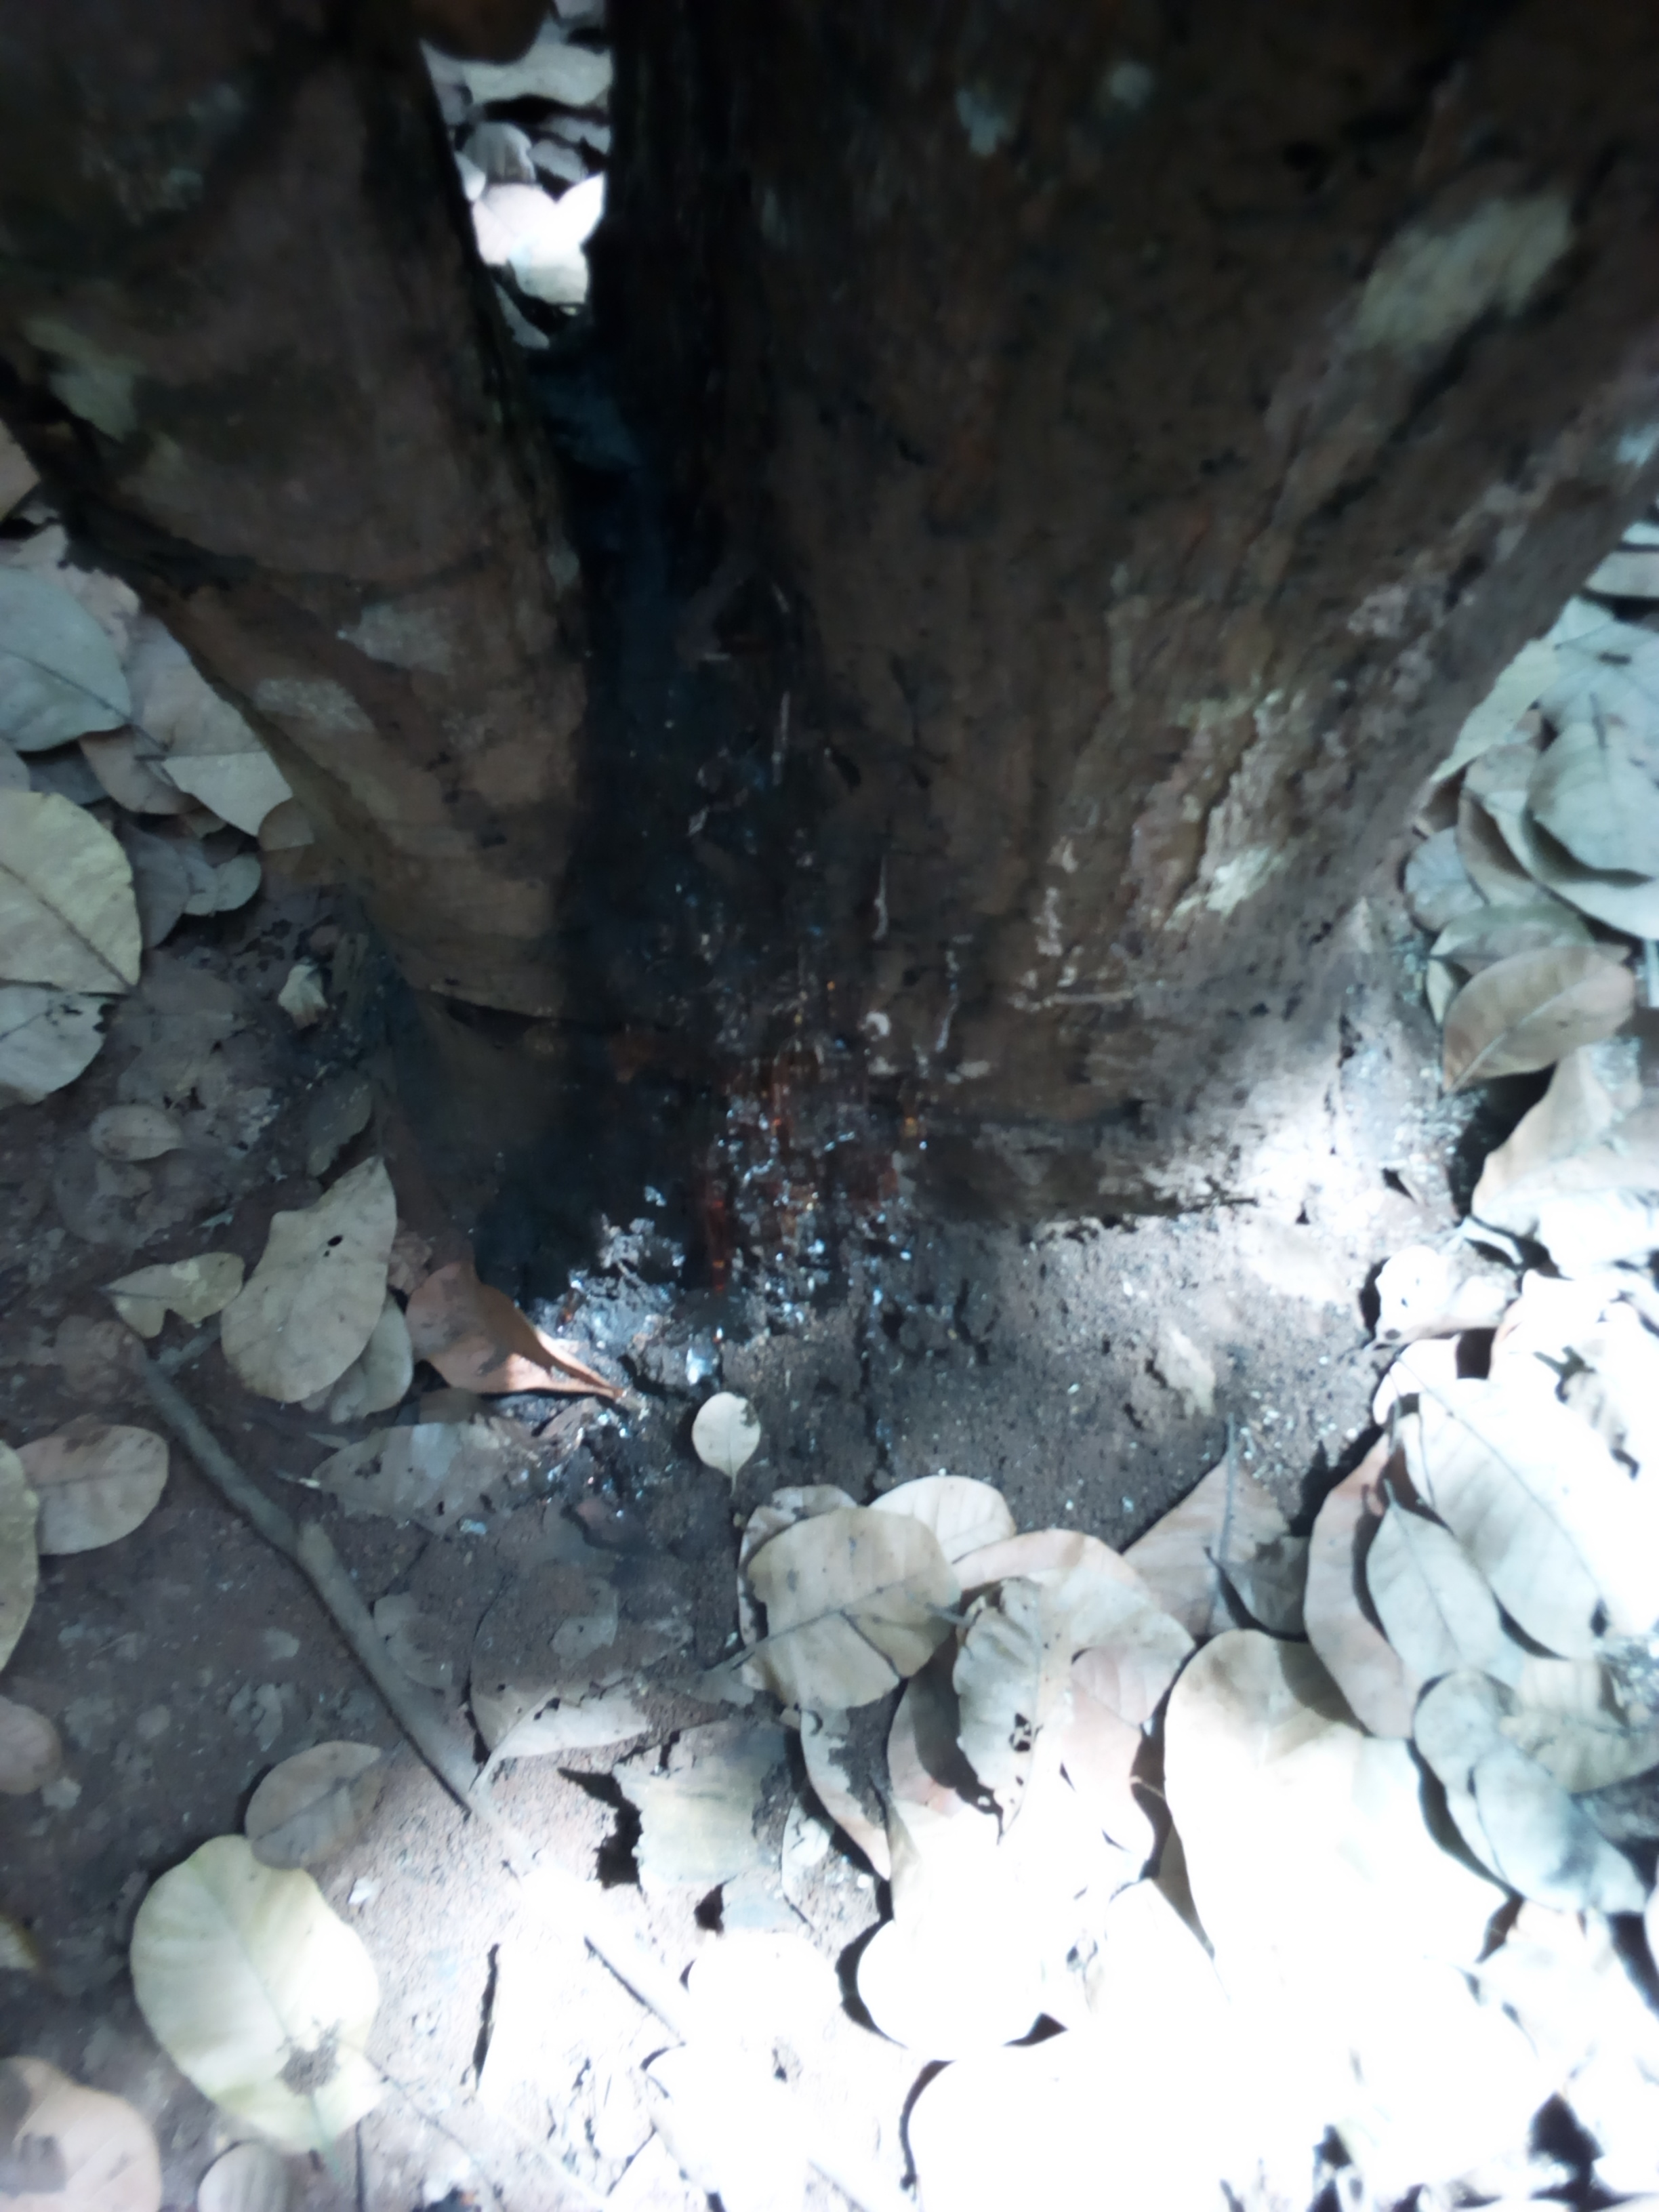Gommose: (554, 493, 915, 1310)
